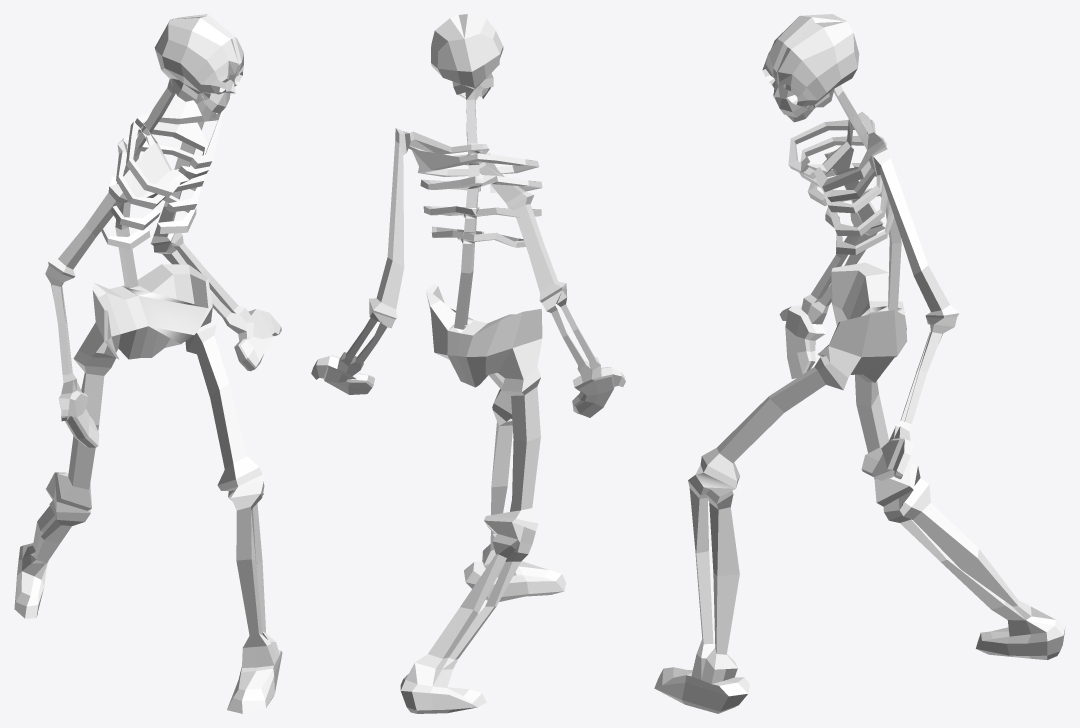
Rendered from SkeletonIdle(43).obj.
3 views of the same model, side by side, from view 1: azimuth 30°, elevation 25°; view 2: azimuth 150°, elevation 25°; view 3: azimuth 270°, elevation 25° (orthographic). The views are drawn at different scales.
Visible parts, largest first — view 1: Object002; view 2: Object002; view 3: Object002.
Boxes of the visible parts, x1=… form: Object002: x1=14, y1=14, x2=282, y2=713; Object002: x1=311, y1=14, x2=625, y2=713; Object002: x1=654, y1=14, x2=1065, y2=713.
Size of the model in its own units: 497 by 1114 by 610.
